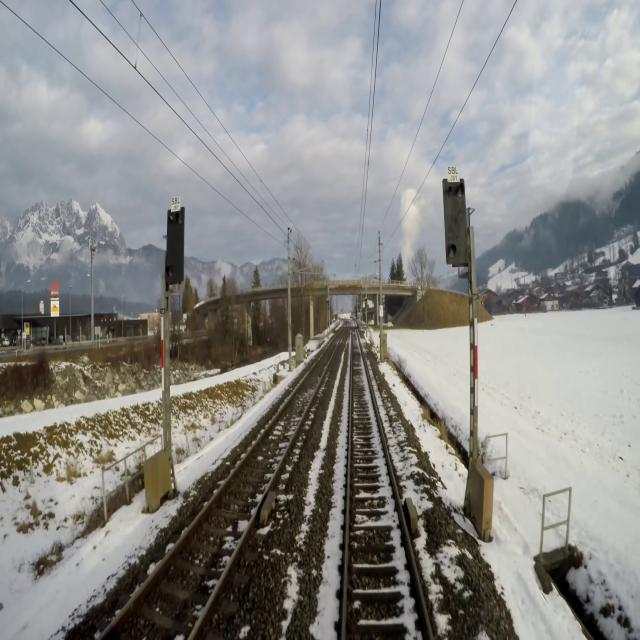rail-track: (103, 329, 342, 639), (346, 324, 428, 639)
